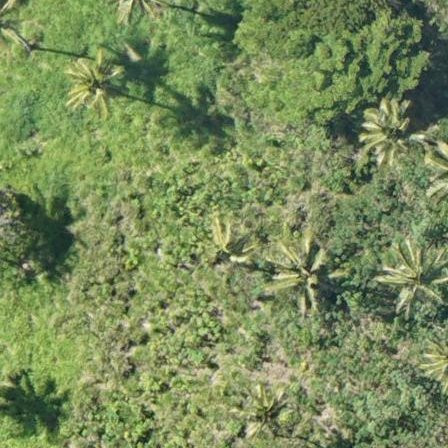palm_tree: (374, 236, 448, 319), (55, 47, 130, 119), (355, 95, 423, 168), (274, 236, 335, 301), (194, 221, 255, 278)
